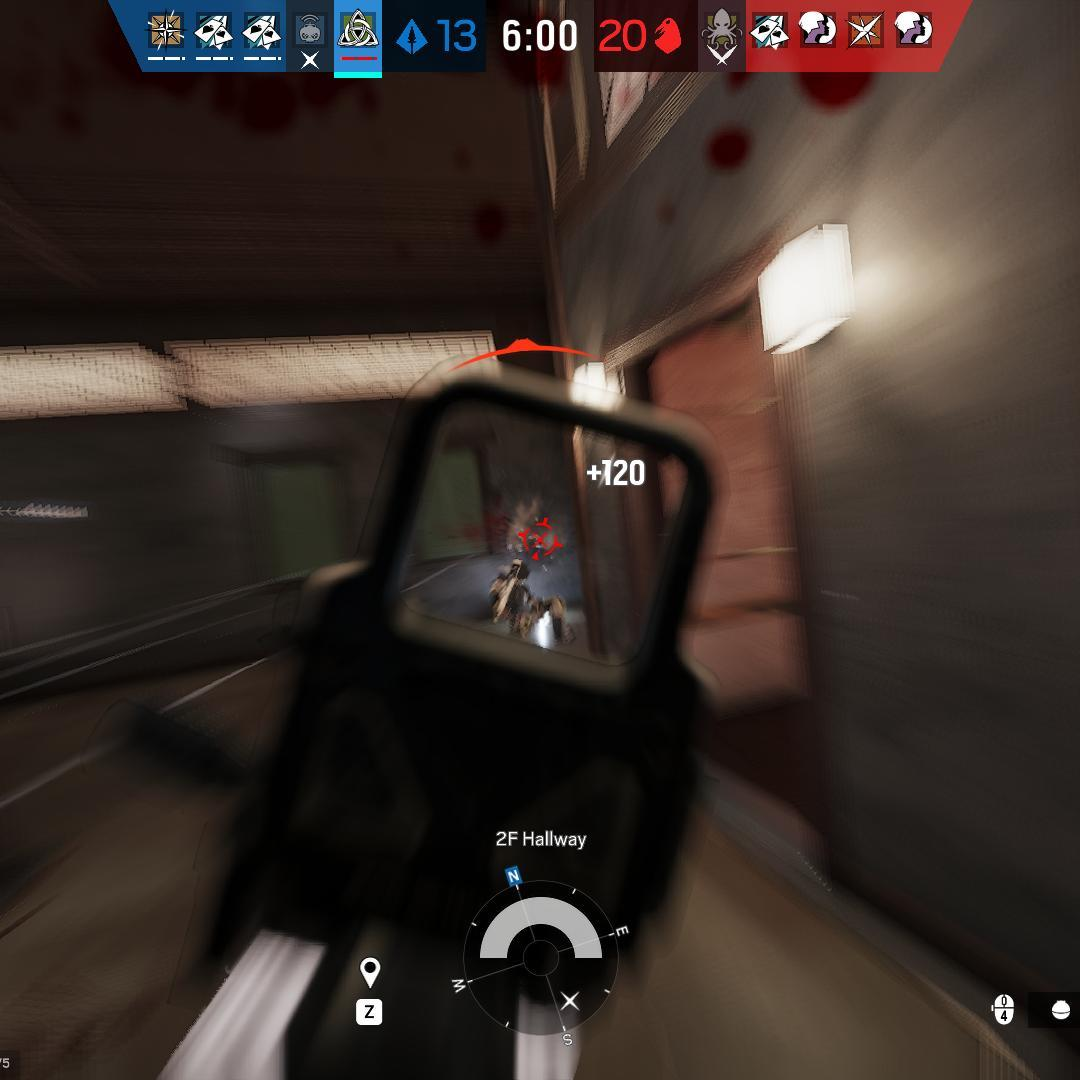Character: (488, 555, 581, 650)
